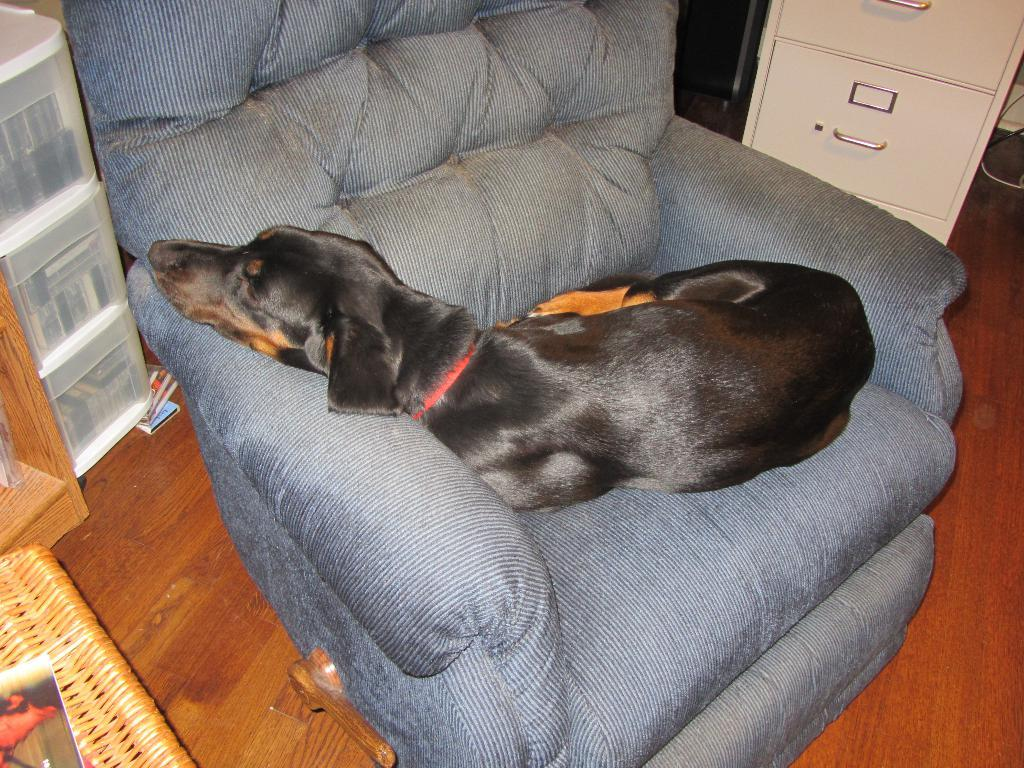cabinet_door: (774, 62, 964, 200), (792, 1, 998, 79)
handle: (835, 124, 887, 152)
